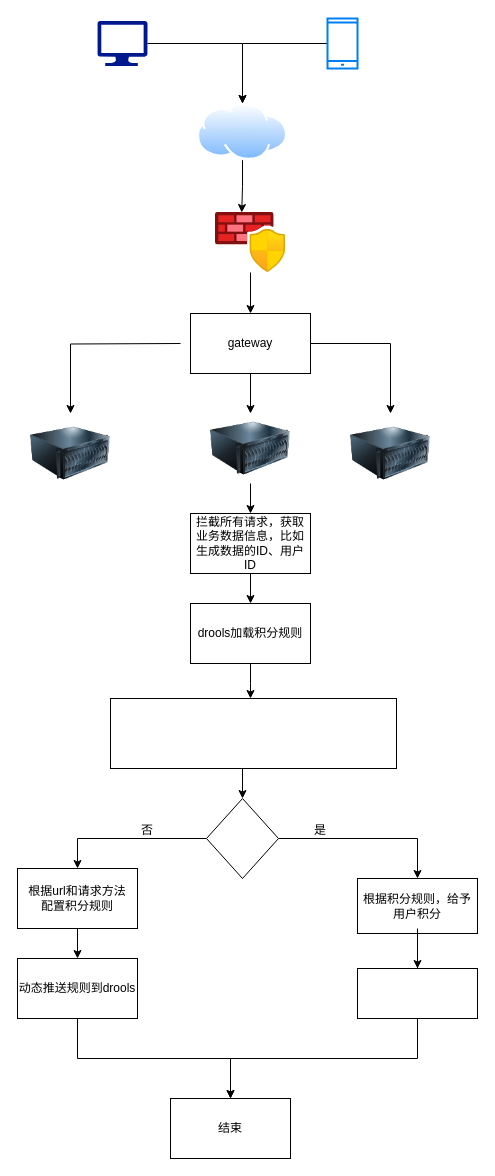
Some shapes in this 495 by 1176 pixel diagram are drawn without their labels. The shapes that lost their labels are listed below. From the top down, each one's centre as x and y in pixels, then its label:
[253,733]: 保存所有请求的url、请求方法、数据id信息、用户ID信息等，抽象出积分规则入参
[242,838]: 存在于规则中
[417,993]: 保存积分获取历史记录
